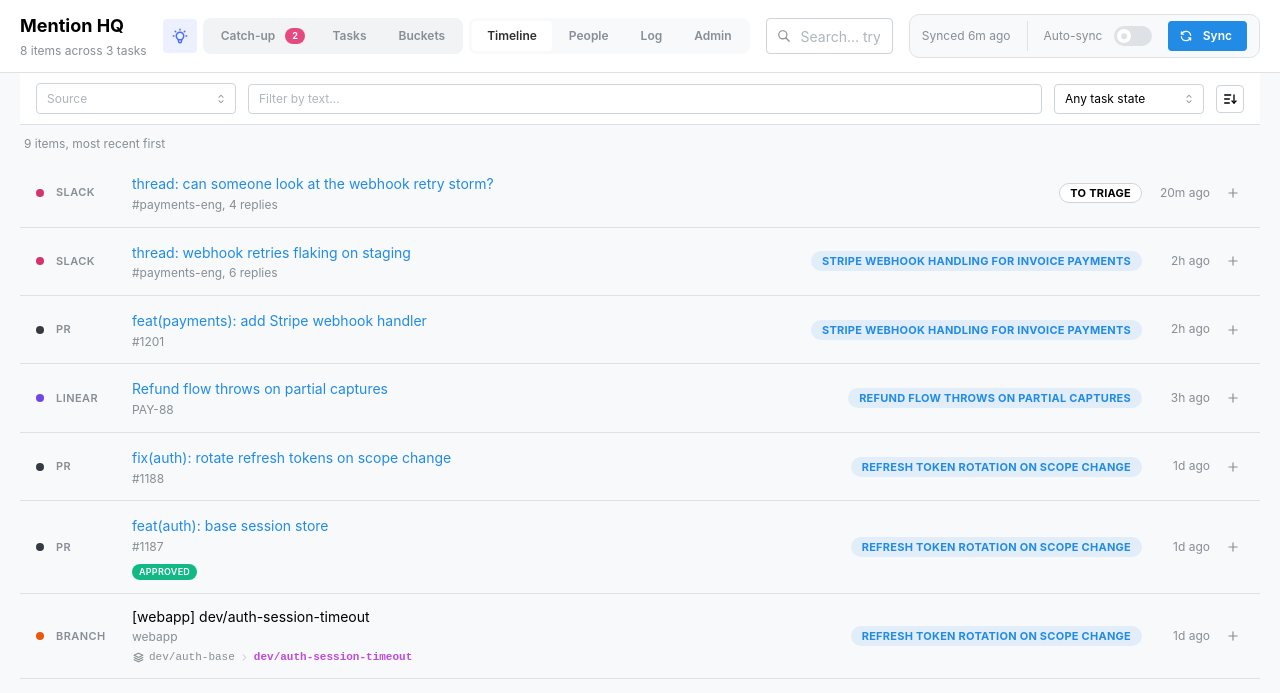
Test case: TimelineView › filters rows through the header search
In the field labelled "Search": (829, 36) [766, 18, 893, 54], type "auth-session"
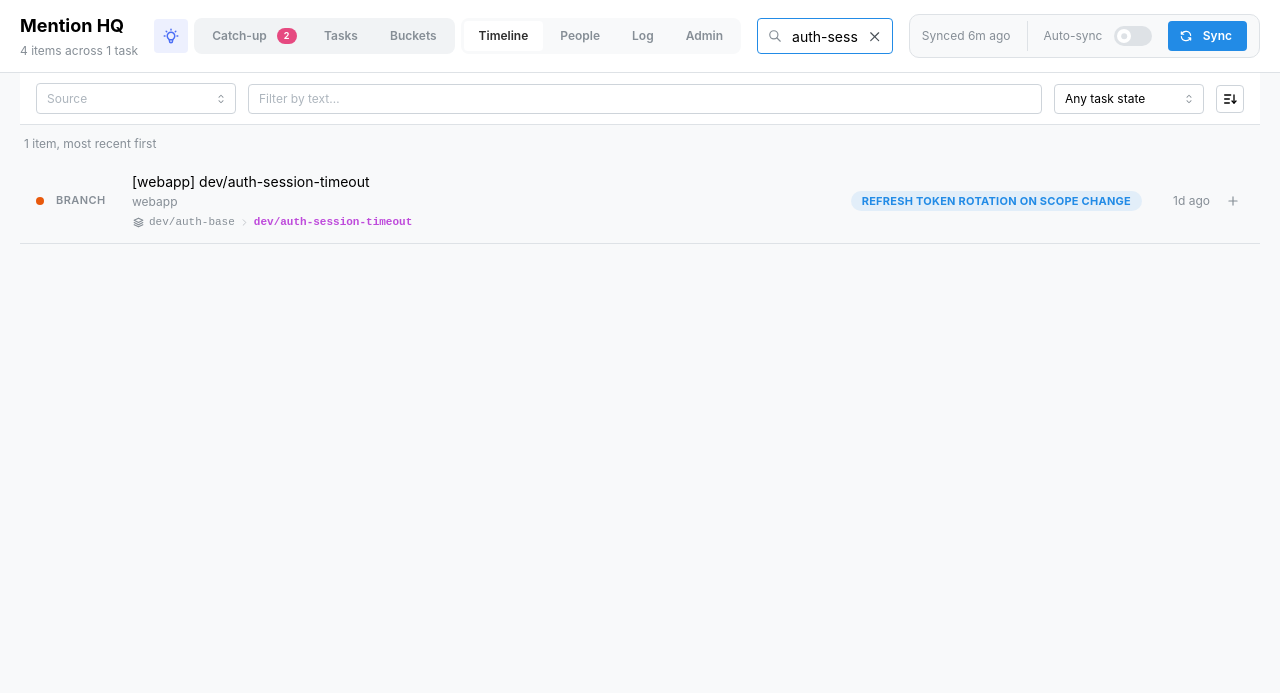
Check: the number of elements with test id "timeline-row" is 1, box [20, 159, 1260, 244]
